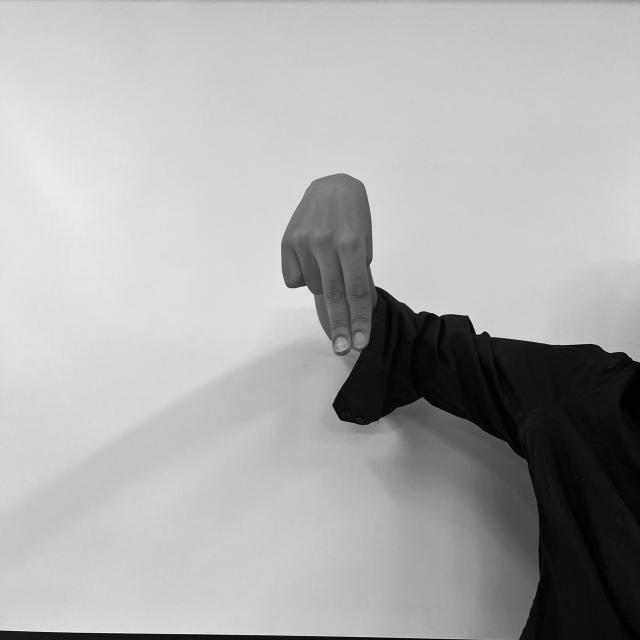Letra N: (278, 170, 376, 358)
